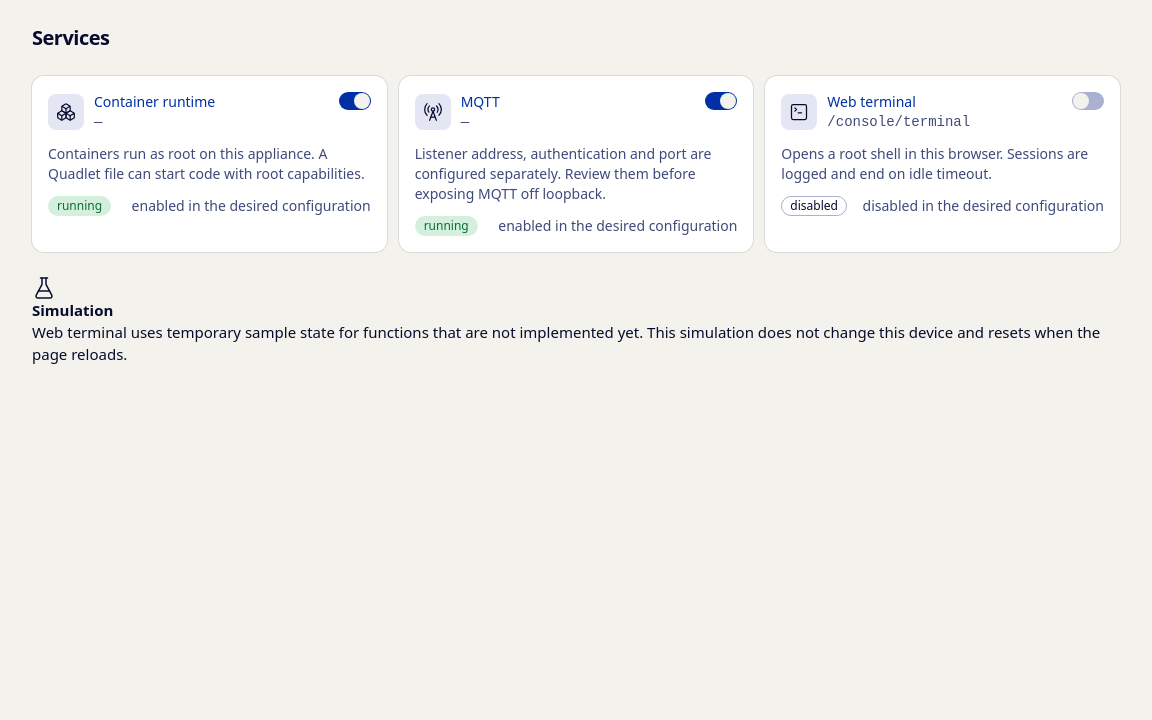
Test: the services page › reports a service switch, which used to change nothing visible
Click the switch named "Container runtime": (355, 101) x1=339 y1=92 x2=371 y2=110
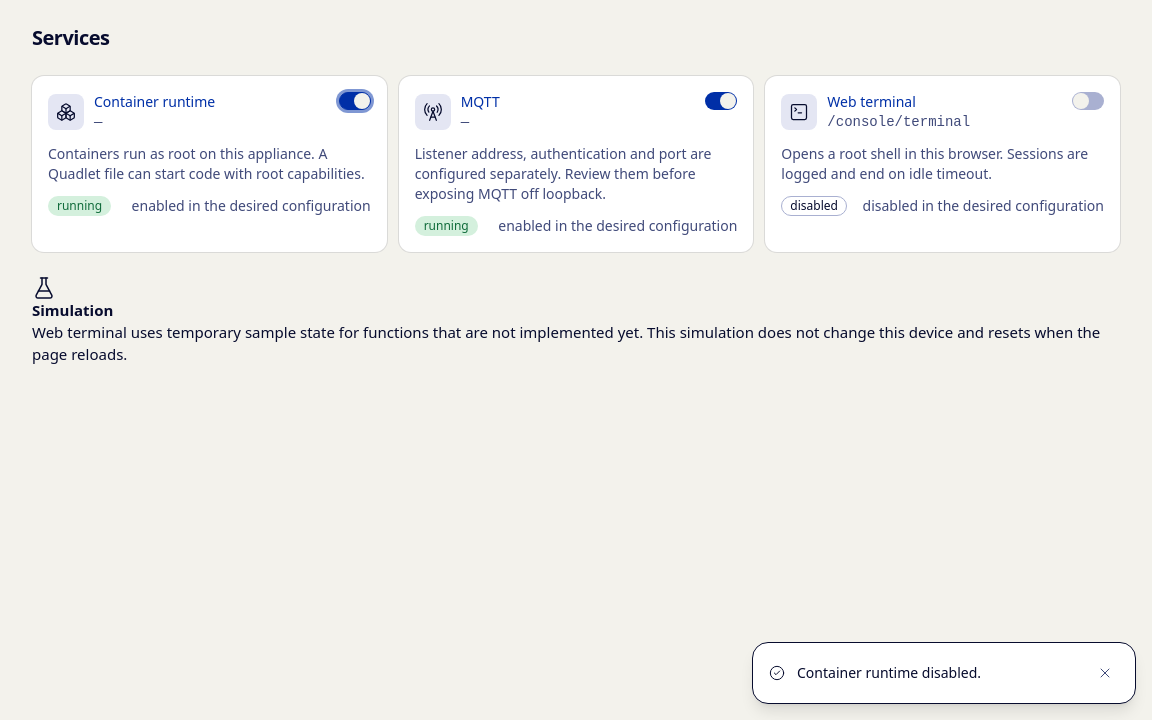
Expected: the heading "Container runtime disabled." is shown, x1=797 y1=663 x2=981 y2=682
